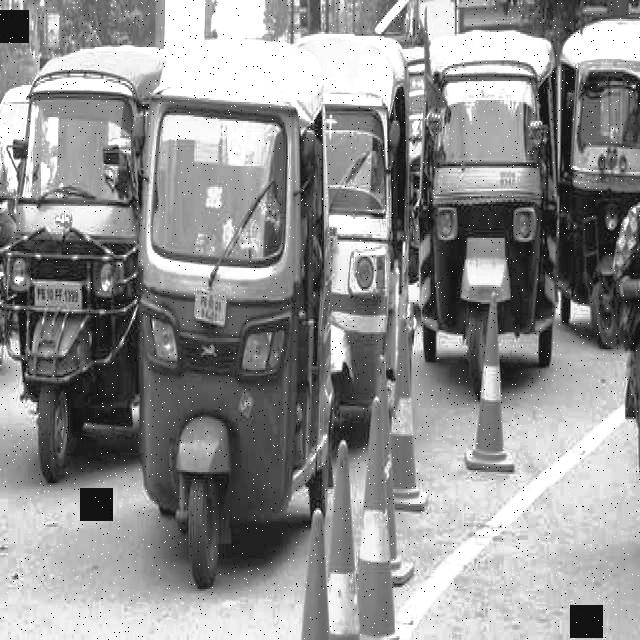Auto-Rickshaw: (140, 42, 326, 601), (280, 29, 416, 469), (23, 38, 156, 472), (424, 28, 564, 378), (552, 15, 640, 377)
